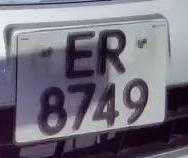4: (93, 78, 124, 131)
7: (67, 80, 99, 135)
8: (34, 81, 71, 140)
9: (121, 77, 155, 128)
E: (57, 28, 97, 79)
R: (95, 24, 132, 80)
